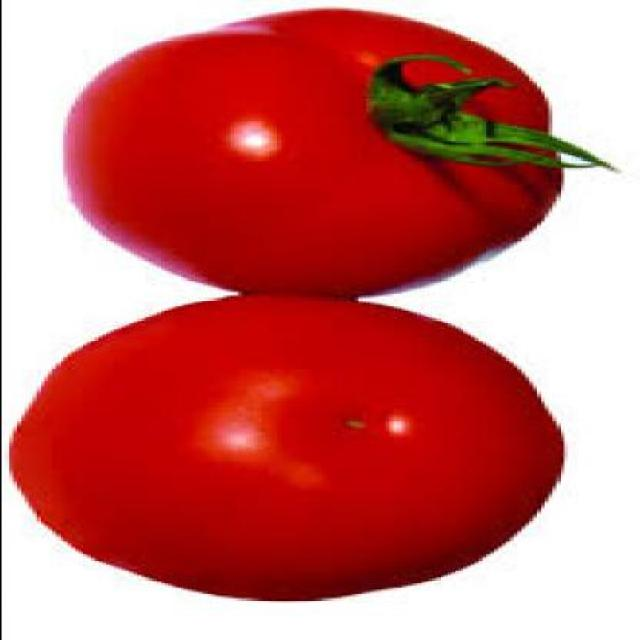BIODEGRADABLE: (12, 294, 570, 600), (66, 7, 559, 296)
